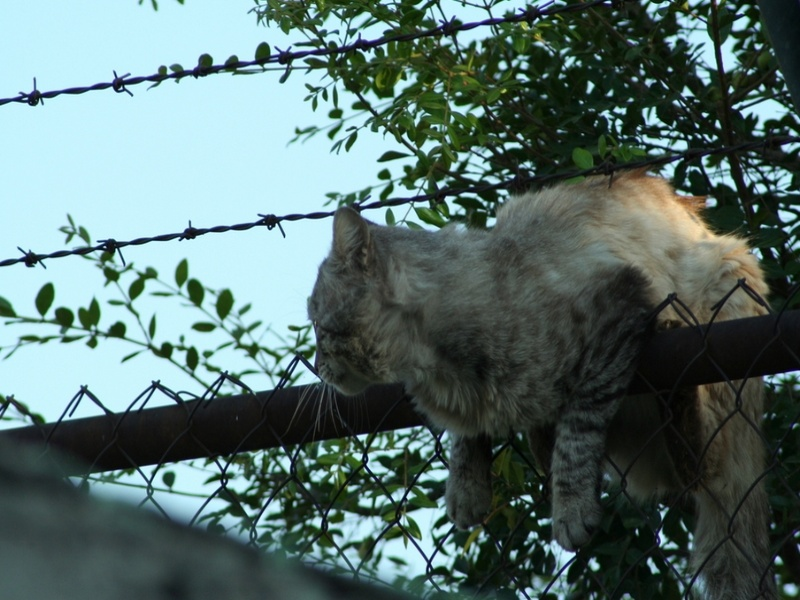cat: (302, 167, 780, 559)
